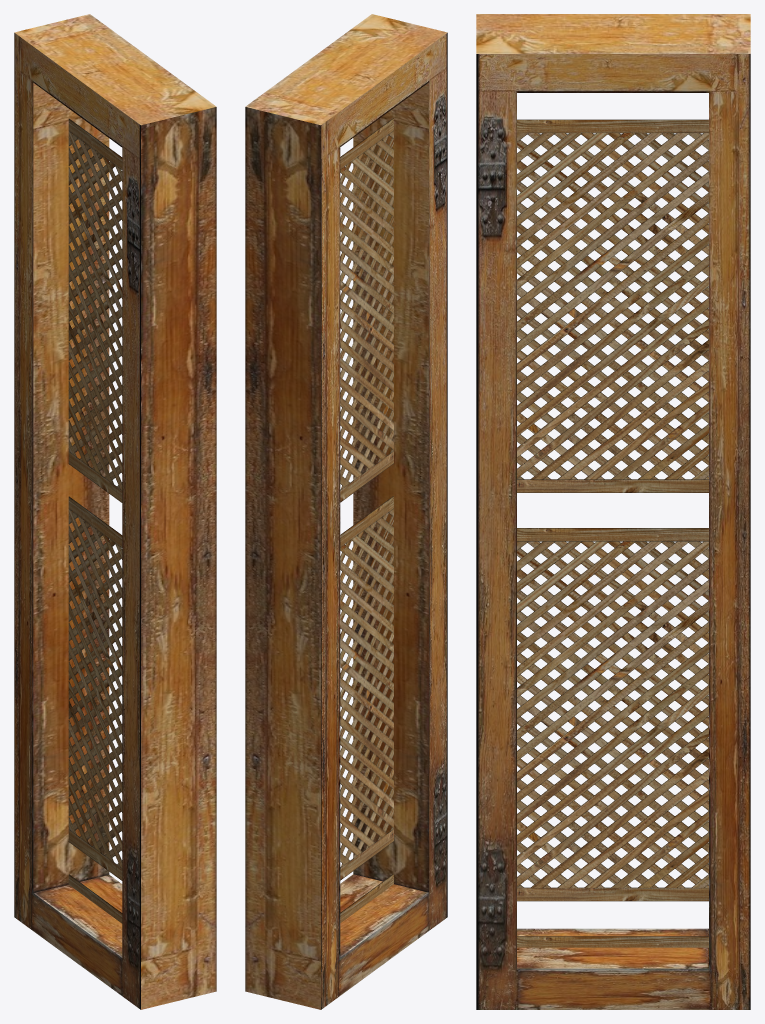
The model's file is windowframe.fbx.
3 renders of one model, left to right at view 1: azimuth 30°, elevation 25°; view 2: azimuth 150°, elevation 25°; view 3: azimuth 270°, elevation 25°, orthographic. The views are drawn at different scales.
Parts seen in each view (by area): view 1: pCube265; view 2: pCube265; view 3: pCube265.
Part boxes in pixels (x1,y1,x2,y2): pCube265: (14,14,216,1009); pCube265: (245,14,447,1009); pCube265: (476,14,750,1009).
Bounding box in the file's own units: 0.2539 × 2.83 × 0.7354.
2 materials, 2 textured.
